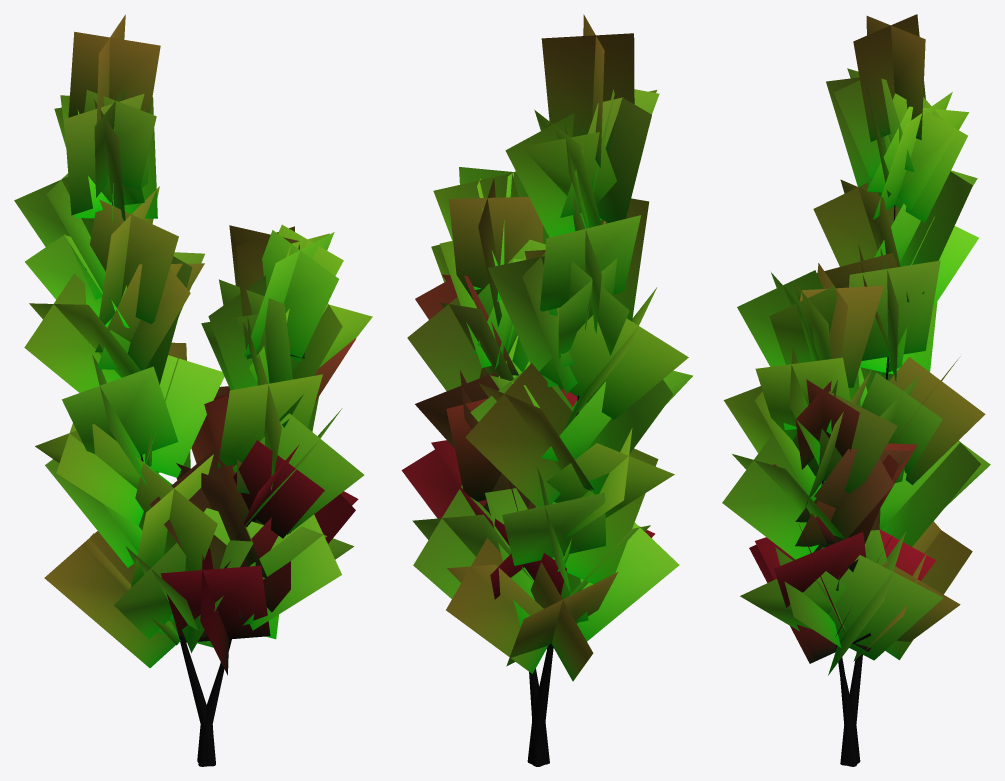
The model's file is S_Tree_11_10.fbx.
The picture shows the model from 3 angles, left to right: view 1: azimuth 30°, elevation 25°; view 2: azimuth 150°, elevation 25°; view 3: azimuth 270°, elevation 25°; orthographic projection. The views are drawn at different scales.
Visible parts, largest first — view 1: S_Tree_11_10; view 2: S_Tree_11_10; view 3: S_Tree_11_10.
Part boxes in pixels (x1,y1,x2,y2): S_Tree_11_10: (14,14,372,766); S_Tree_11_10: (401,14,692,766); S_Tree_11_10: (722,14,990,766).
Bounding box in the file's own units: 1446 × 3313 × 1147.
